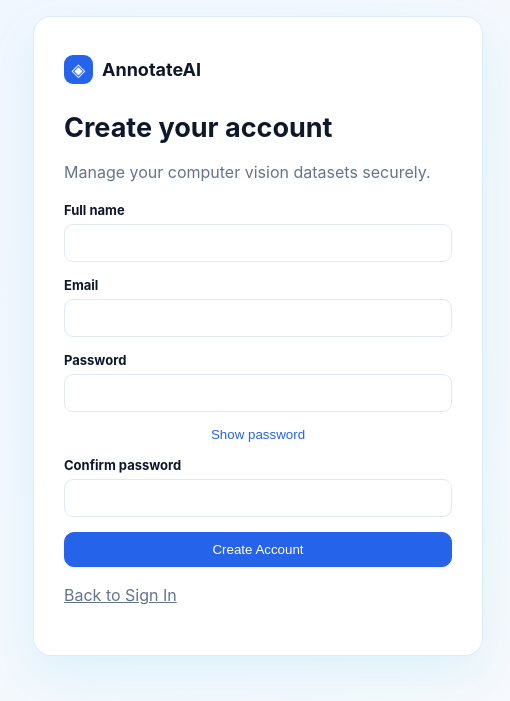
registration navigates to Check Email with a masked destination and actual delivery status
Type "Name" into the field labelled "Full name".
click(258, 243); type("Name")  # box [64, 224, 452, 262]
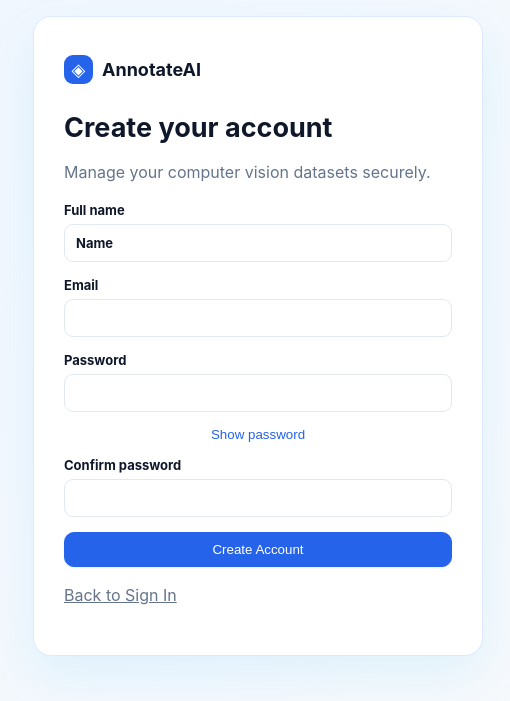
Type "person@example.com" into the field labelled "Email".
click(258, 318); type("person@example.com")  # box [64, 299, 452, 337]
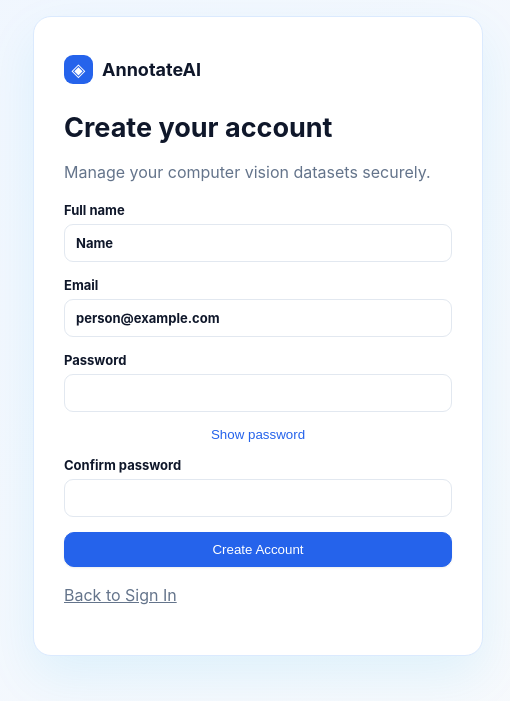
Type "strong password for testing" into the password field labelled "Password".
click(258, 393); type("strong password for testing")  # box [64, 374, 452, 412]
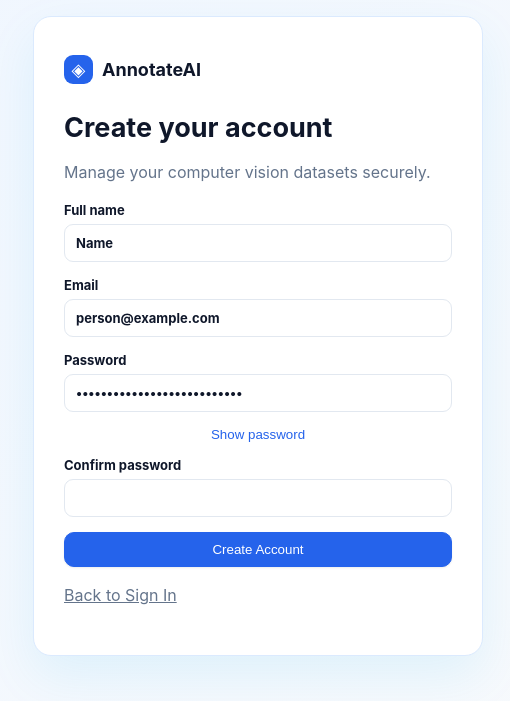
Type "strong password for testing" into the password field labelled "Confirm password".
click(258, 498); type("strong password for testing")  # box [64, 479, 452, 517]
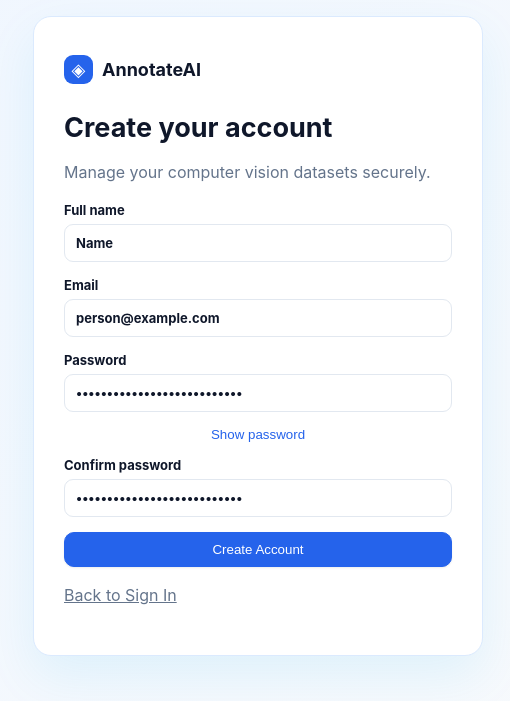
Click the button "Create Account".
click(258, 550)  # box [64, 532, 452, 567]
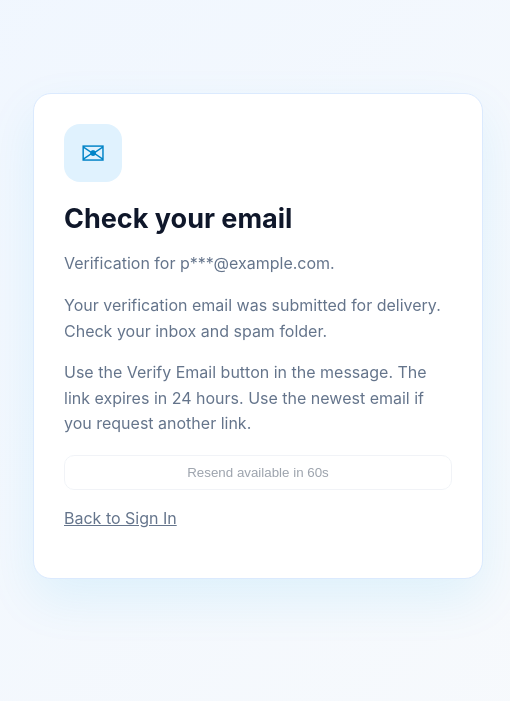
expect the heading "Check your email" is shown: met, box [64, 202, 292, 235]
expect the text "Verification for p***@example.com." is shown: met, box [64, 253, 335, 273]
expect the button "Resend available in 60s" is disabled: met, box [64, 455, 452, 490]
